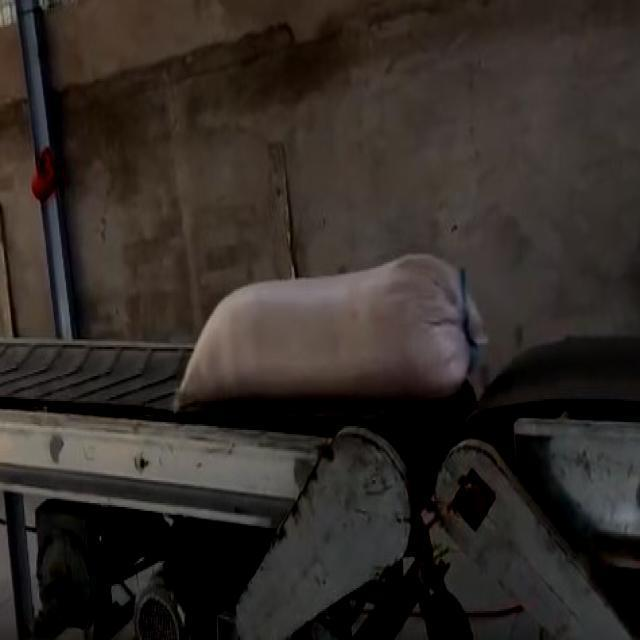gunny_bag: (178, 254, 484, 410)
